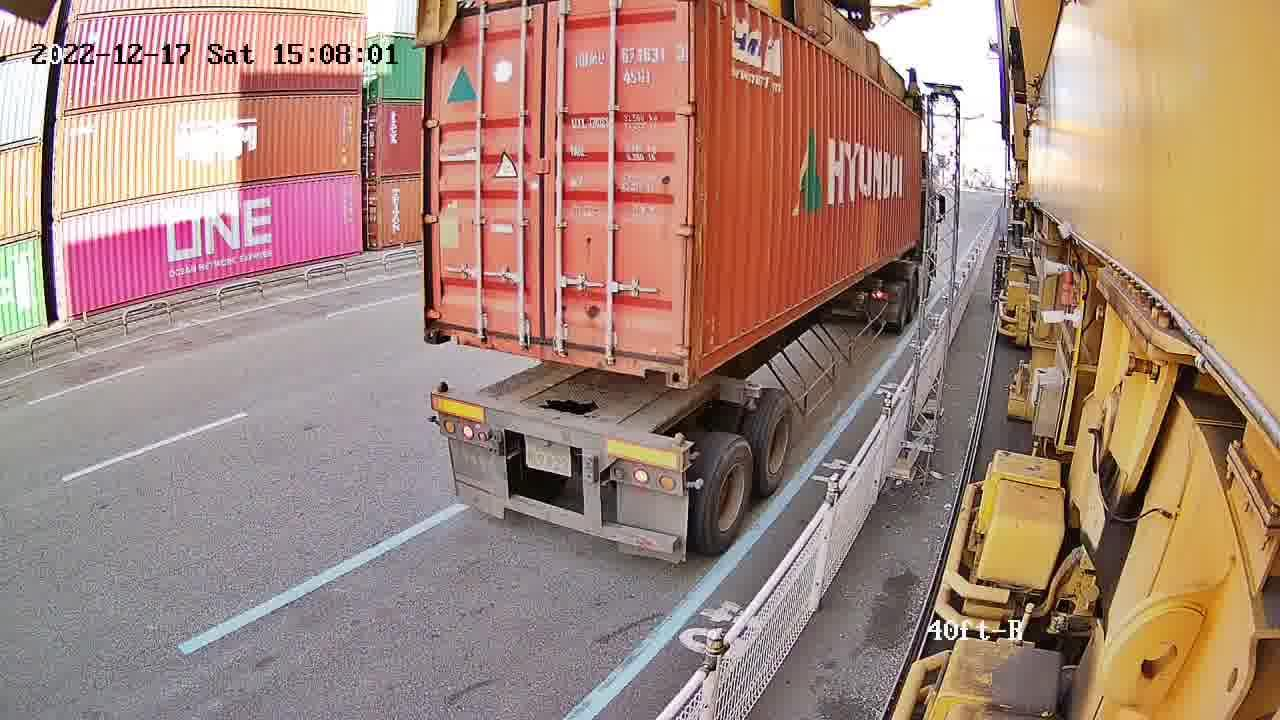Chassis: (434, 395, 688, 475)
Cone: (672, 431, 691, 470), (431, 380, 451, 409)
Hole_L: (688, 323, 718, 388), (423, 301, 466, 346)
Hole_R: (633, 334, 691, 388)
Tire: (701, 443, 753, 553), (755, 397, 795, 489)
